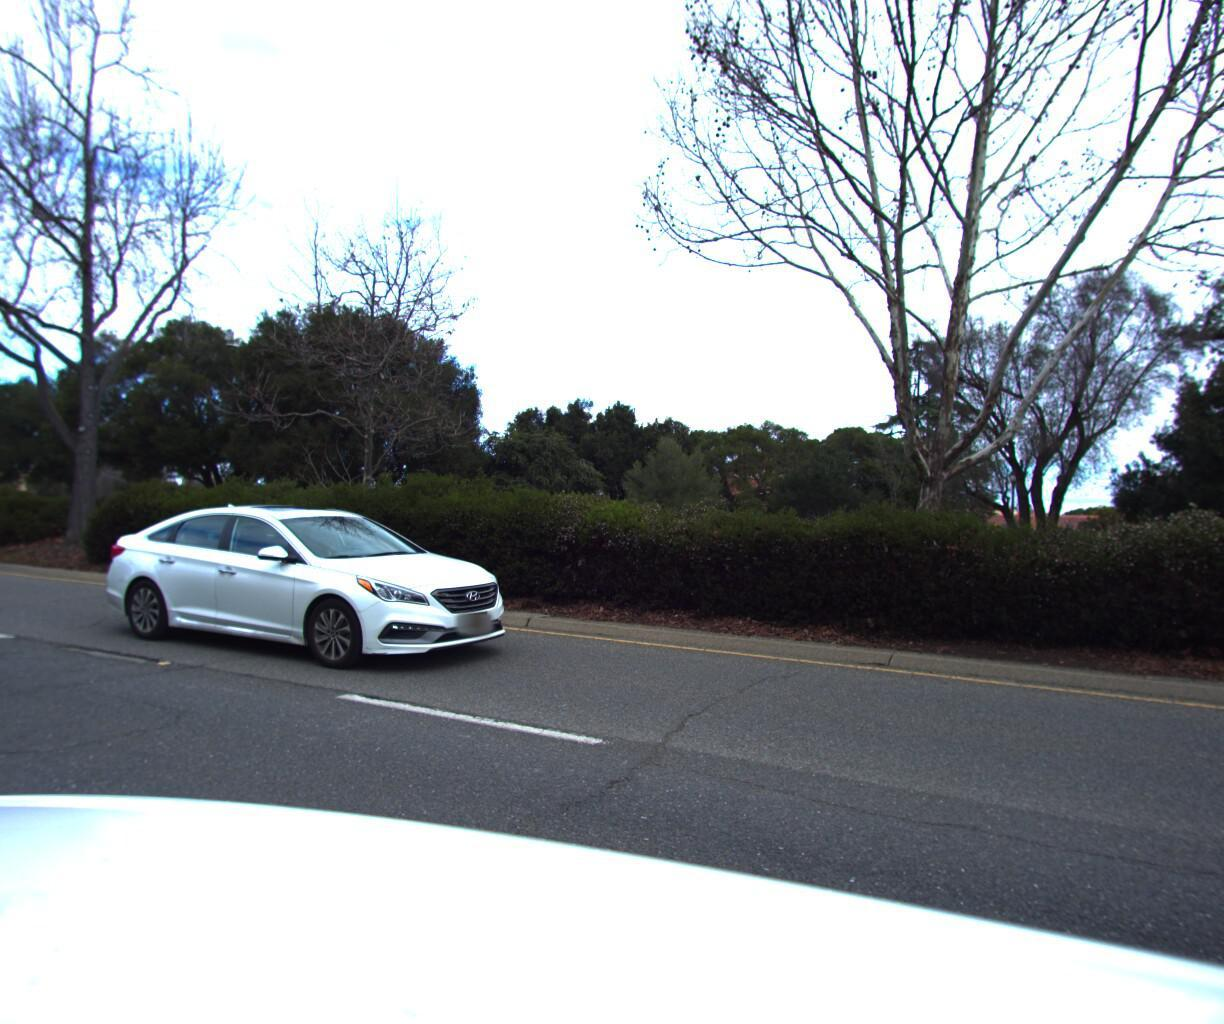car: (82, 494, 538, 682)
